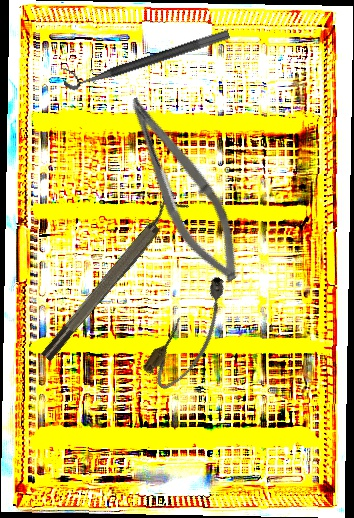Cannula: (138, 270, 245, 397)
Fixation Ring: (31, 187, 190, 365), (59, 15, 231, 93)
Micro Scissor: (104, 88, 260, 292)
